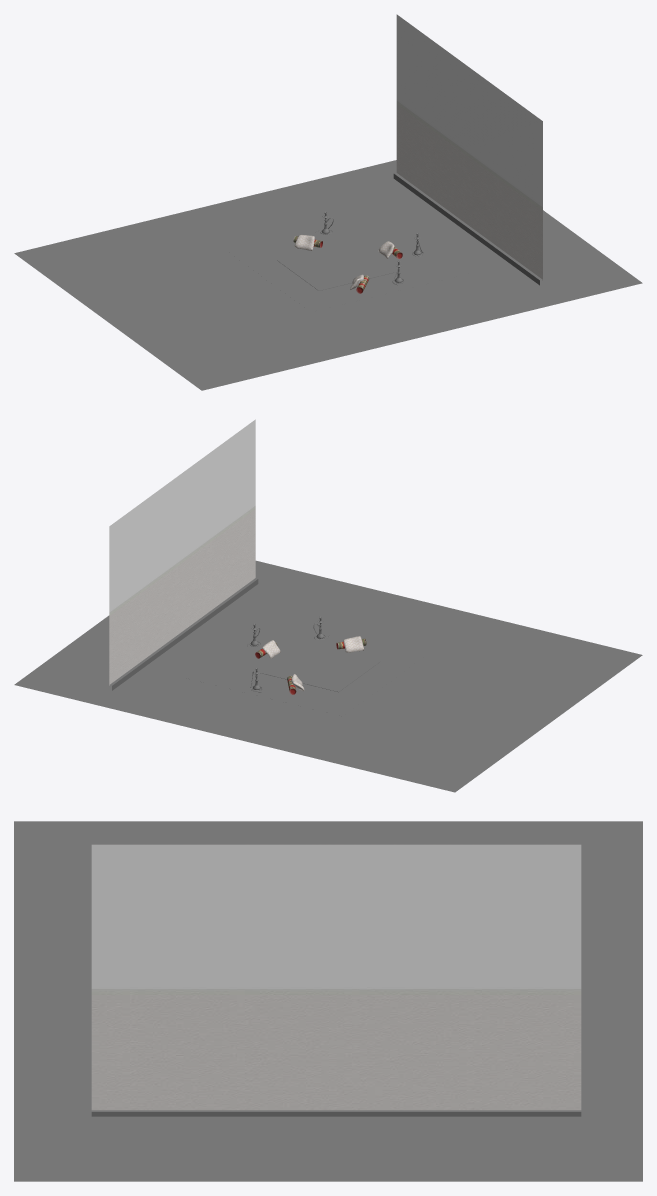
3 renders of one model, top to bottom at view 1: azimuth 30°, elevation 25°; view 2: azimuth 150°, elevation 25°; view 3: azimuth 270°, elevation 25°, orthographic. The views are drawn at different scales.
Visible parts, largest first — view 1: Plane001, Box004, Box001, Plane003; view 2: Plane001, Box004, Box001, Plane003; view 3: Box004, Plane001.
Boxes of the visible parts, left/top/right/bottom form: Plane001: left=14, top=160, right=642, bottom=390; Box004: left=396, top=14, right=542, bottom=280; Box001: left=225, top=211, right=468, bottom=311; Plane003: left=277, top=240, right=397, bottom=290; Plane001: left=14, top=560, right=642, bottom=792; Box004: left=109, top=419, right=255, bottom=685; Box001: left=185, top=615, right=427, bottom=716; Plane003: left=259, top=642, right=380, bottom=692; Box004: left=91, top=844, right=581, bottom=1110; Plane001: left=14, top=821, right=642, bottom=1181.
Bounding box in the file's own units: 9.46 × 3.36 × 6.98.
6 materials, 2 textured.
